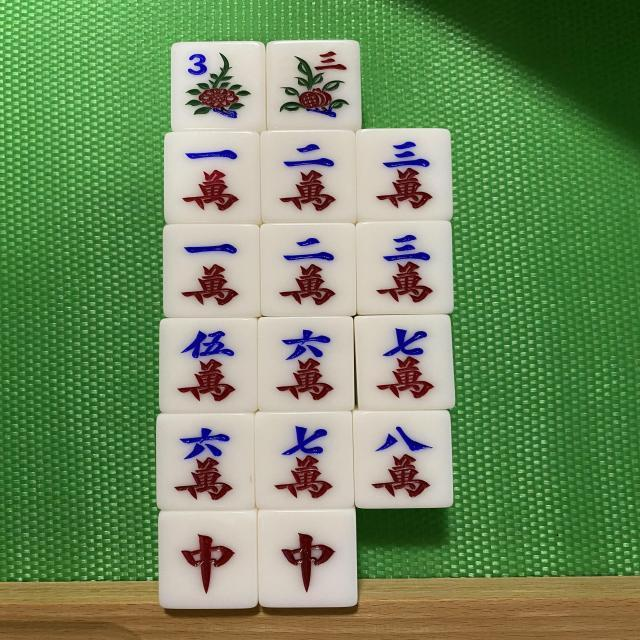bf3: (170, 42, 262, 130)
bs3: (267, 40, 361, 128)
hdr: (158, 511, 259, 609), (260, 510, 358, 608)
sc1: (164, 225, 260, 318), (166, 133, 259, 221)
sc2: (260, 223, 356, 316), (261, 130, 356, 222)
sc3: (356, 220, 452, 314), (357, 130, 452, 220)
sc5: (159, 319, 257, 412)
sc6: (157, 414, 255, 510), (256, 318, 354, 410)
sc7: (255, 411, 355, 509), (352, 315, 456, 408)
sc8: (356, 410, 454, 508)
